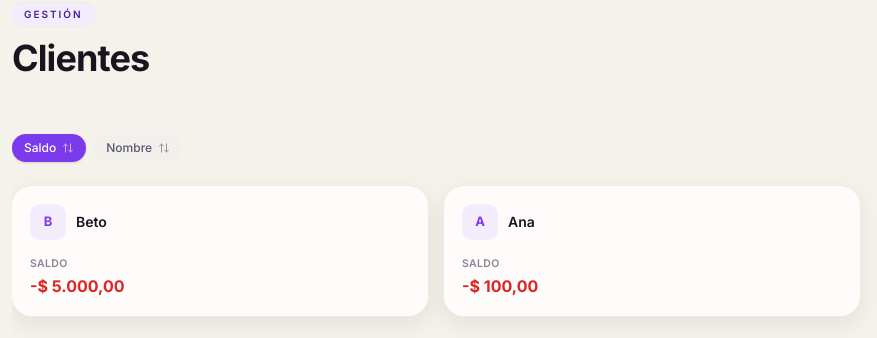
Test case: ClientesPage — sort toggle re-orders without refetch (task 10.3) › switching order re-sorts client-side, without a second GET
This screenshot has width=877, height=338.
Click the button "Nombre".
click(138, 148)  # box [94, 134, 182, 162]
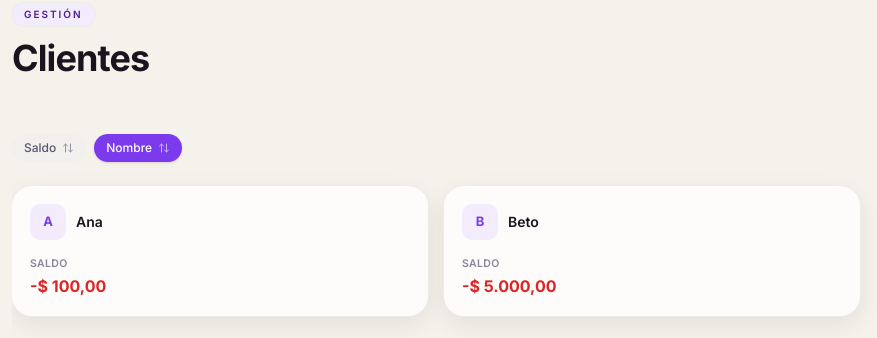
Check: the elements with test id "^cliente-nombre-" read "Ana", "Beto", in this order, box [76, 212, 103, 232]; [508, 212, 539, 232]
